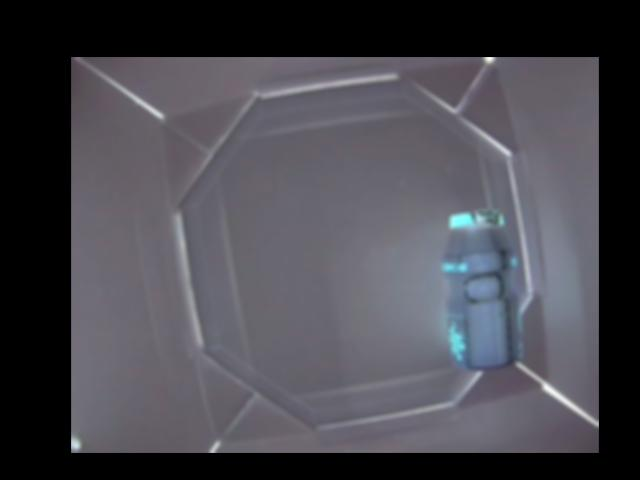Bottle: (440, 211, 522, 368)
